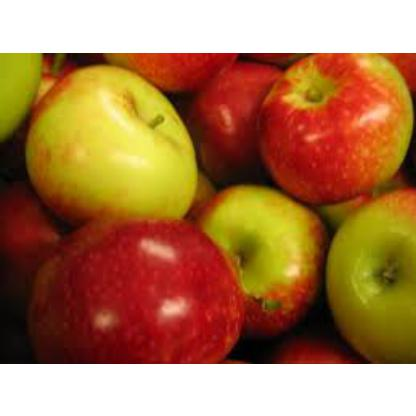apple: (31, 227, 244, 361), (28, 76, 200, 214), (186, 183, 336, 329), (255, 60, 405, 190), (328, 202, 414, 350), (189, 63, 290, 183)
